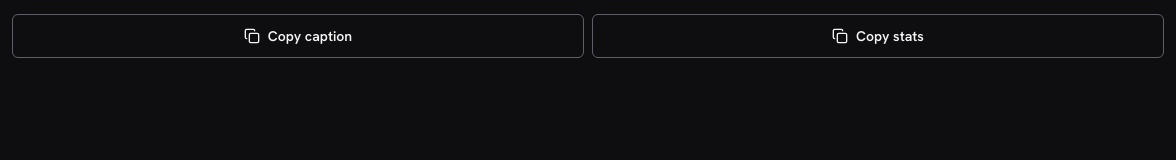
Test: award text tools › reports copied only after the clipboard accepts the requested text
This screenshot has width=1176, height=160.
Later steps or results of the test are not shown.
Click the button "Copy caption" at (298, 36), box [12,14,584,58]
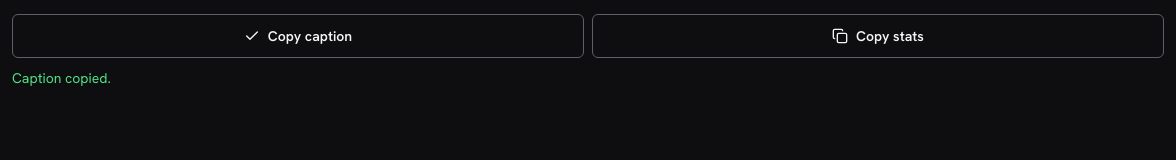
Result: the message reads "Caption copied." at [12,69,111,87]
